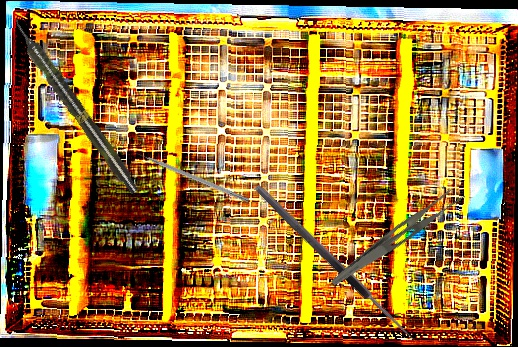Dressing Forceps: (330, 179, 467, 300)
Handpiece: (7, 14, 143, 198)
Hook Surgical: (252, 175, 426, 345), (127, 146, 250, 204)
